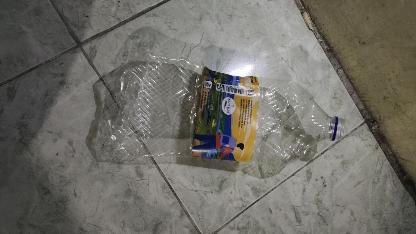Plastic Bottle: (93, 53, 345, 167)
